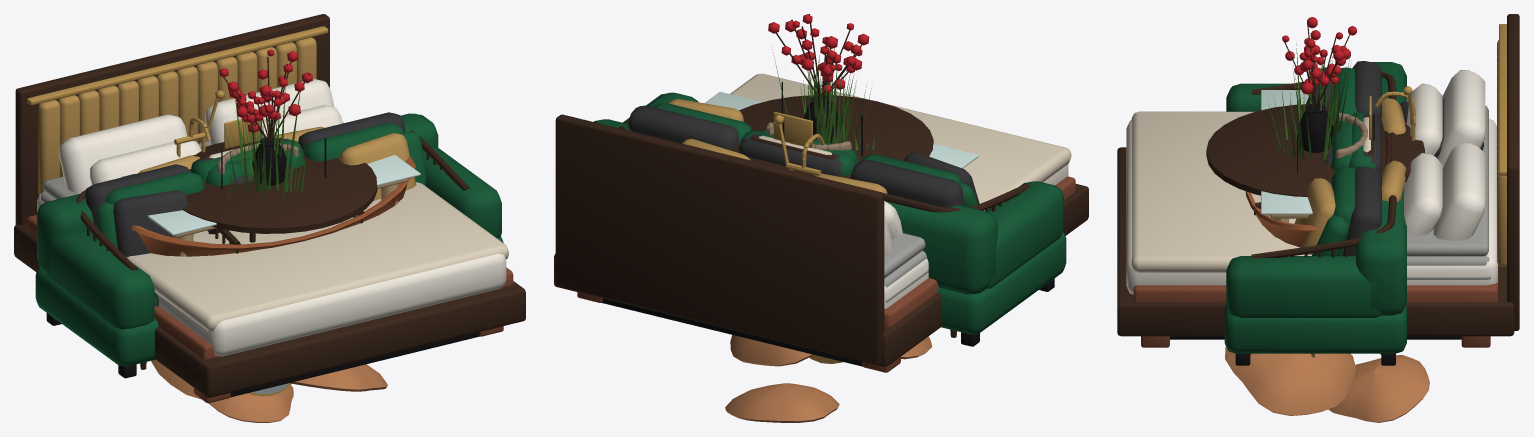
The model's file is furniture.glb.
3 renders of one model, left to right at view 1: azimuth 30°, elevation 25°; view 2: azimuth 150°, elevation 25°; view 3: azimuth 270°, elevation 25°, orthographic. The views are drawn at different scales.
Visible parts, largest first — view 1: bed, sofa_velvet, round_table, sofa, dining_table, pendant_shell, tub, plant_pot, daybed, desk, armchair, toilet; view 2: bed, sofa_velvet, sofa, round_table, pendant_shell, dining_table, daybed, plant_pot, desk, toilet, tub, armchair (+1 smaller); view 3: bed, sofa_velvet, pendant_shell, round_table, daybed, sofa, dining_table, plant_pot, desk, tub, armchair, desk_chair.
Boxes of the visible parts, bbox=[...] form: bed: bbox=[14, 14, 525, 397]; sofa_velvet: bbox=[35, 113, 503, 378]; round_table: bbox=[182, 141, 377, 232]; sofa: bbox=[76, 112, 469, 369]; dining_table: bbox=[200, 49, 377, 233]; pendant_shell: bbox=[151, 359, 387, 422]; tub: bbox=[131, 90, 415, 256]; plant_pot: bbox=[226, 78, 306, 196]; daybed: bbox=[26, 122, 513, 403]; desk: bbox=[148, 155, 420, 256]; armchair: bbox=[190, 139, 364, 253]; toilet: bbox=[224, 118, 261, 148]; bed: bbox=[554, 73, 1088, 366]; sofa_velvet: bbox=[594, 92, 1066, 346]; sofa: bbox=[619, 99, 1030, 337]; round_table: bbox=[729, 95, 933, 178]; pendant_shell: bbox=[725, 335, 932, 422]; dining_table: bbox=[768, 14, 933, 151]; daybed: bbox=[577, 176, 1075, 372]; plant_pot: bbox=[772, 48, 871, 148]; desk: bbox=[704, 91, 978, 168]; toilet: bbox=[773, 111, 812, 147]; tub: bbox=[774, 115, 973, 183]; armchair: bbox=[738, 130, 855, 176]; bed: bbox=[1117, 14, 1519, 339]; sofa_velvet: bbox=[1224, 62, 1406, 365]; pendant_shell: bbox=[1225, 347, 1429, 422]; round_table: bbox=[1206, 104, 1424, 196]; daybed: bbox=[1133, 98, 1497, 347]; sofa: bbox=[1250, 61, 1396, 354]; dining_table: bbox=[1211, 17, 1424, 195]; plant_pot: bbox=[1268, 43, 1365, 160]; desk: bbox=[1261, 90, 1312, 237]; tub: bbox=[1245, 86, 1415, 247]; armchair: bbox=[1254, 112, 1390, 215]; desk_chair: bbox=[1336, 112, 1367, 158].
Bounding box in the file's own units: 2.5 × 2.27 × 2.21.
